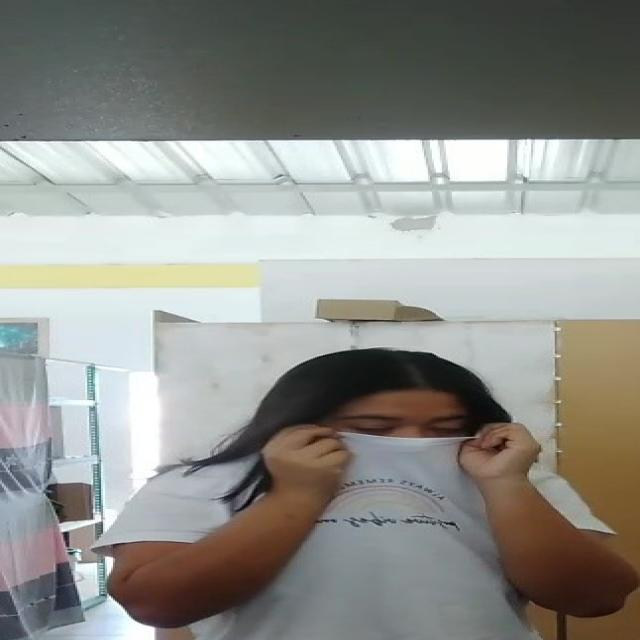8_ropa_rostro: (264, 424, 540, 522)
